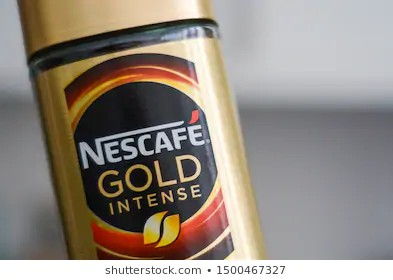nescafe-classic/gold-med: (13, 1, 269, 258)
